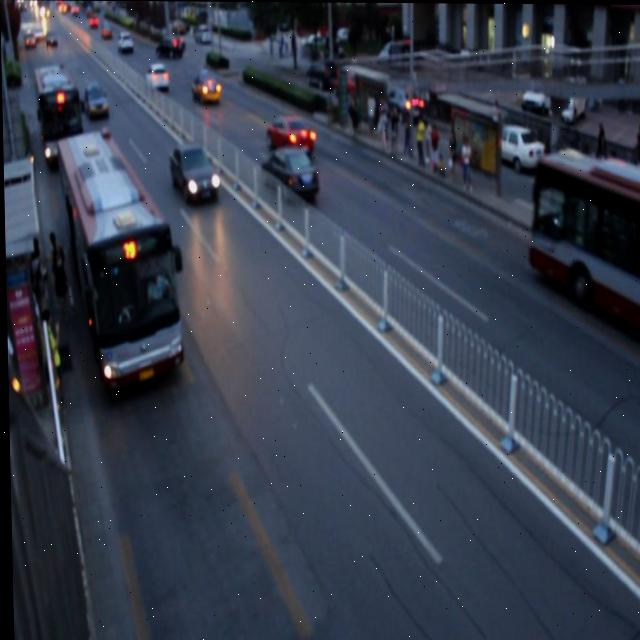car: (258, 145, 318, 202), (168, 139, 217, 200), (266, 114, 315, 158), (190, 69, 220, 105), (84, 81, 110, 120), (145, 62, 169, 94)
van: (55, 133, 182, 394), (523, 144, 640, 343), (32, 63, 86, 169)
